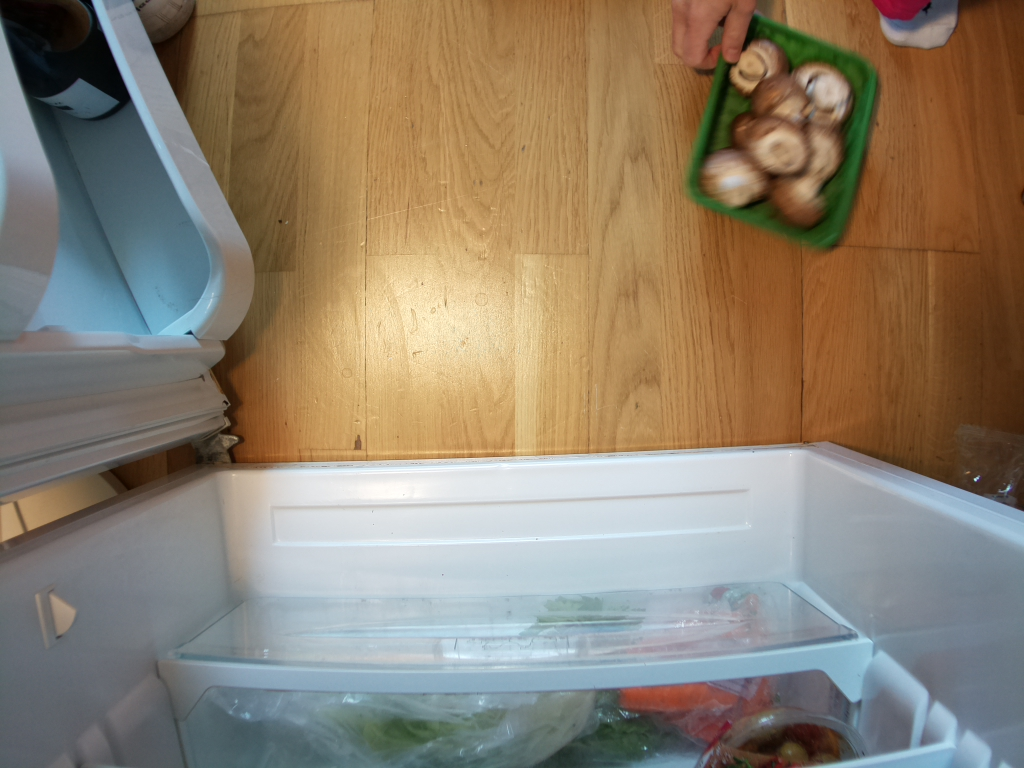mushrooms: (685, 16, 880, 258)
